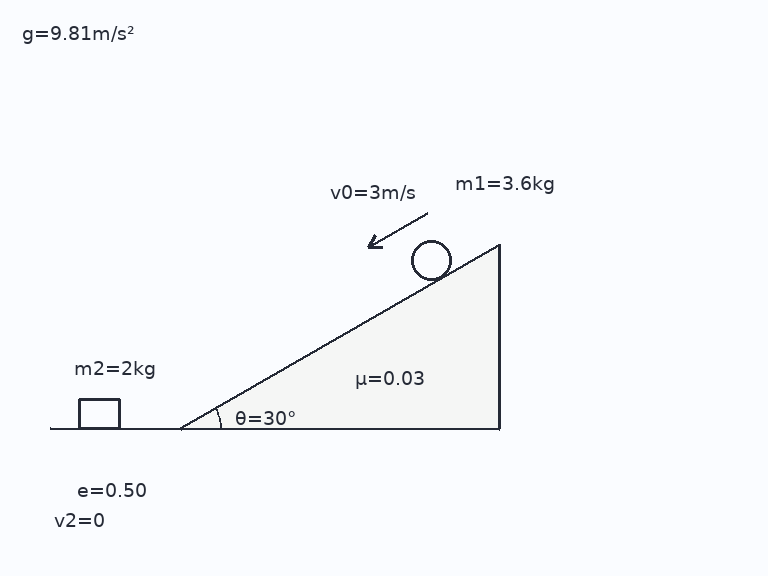ball: (409, 238, 453, 282)
block: (77, 397, 121, 430)
ramp: (179, 242, 501, 430)
